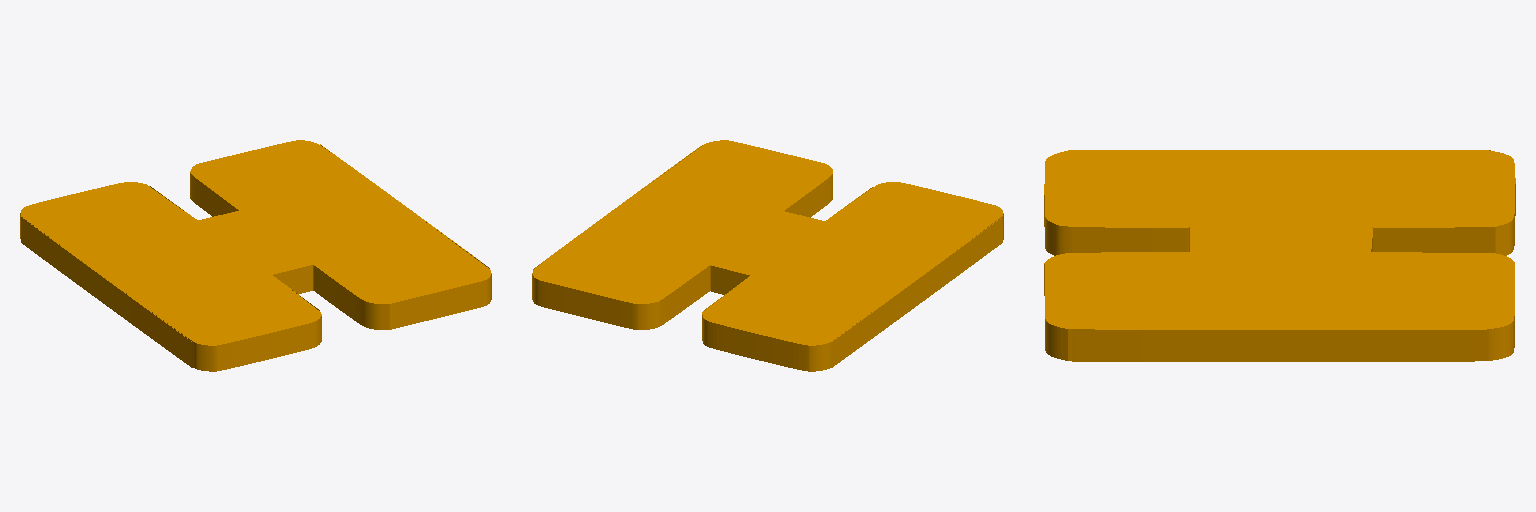
The robot description file, URDF, robot "i5.urdf":
<?xml version="1.0" encoding="utf-8"?>
<robot name="i5.urdf">
  <link name="baseLink">
    <contact>
      <lateral_friction value="0.5"/>
      <rolling_friction value="0.001"/>
      <spinning_friction value="0.001"/>
    </contact>
    <inertial>
      <origin rpy="0 0 0" xyz="0 0 0"/>
      <mass value="0.07"/>
      <inertia ixx="1" ixy="0" ixz="0" iyy="1" iyz="0" izz="1"/>
    </inertial>
    <visual>
      <origin rpy="0 0 0" xyz="0 0 0"/>
      <geometry>
        <mesh filename="i5.obj" scale="0.2 0.2 0.1"/> <!-- Scale x and y by 3.5, z by 1.0 -->
      </geometry>
    </visual>
    <collision>
      <origin rpy="0 0 0" xyz="0 0 0"/>
      <geometry>
        <mesh filename="i5.obj" scale="0.2 0.2 0.1"/> <!-- Scale x and y by 3.5, z by 1.0 -->
      </geometry>
    </collision>
  </link>
</robot>

--- What the picture shows (computed from the rendered views, not written in the file) ---
The picture shows the robot from 3 angles, left to right: view 1: azimuth 30°, elevation 25°; view 2: azimuth 150°, elevation 25°; view 3: azimuth 270°, elevation 25°; orthographic projection.
Robot: i5.urdf — 1 links, 0 joints (none); root link baseLink; default pose: all joints at 0.
Links seen in each view (by area): view 1: baseLink; view 2: baseLink; view 3: baseLink.
Link boxes in pixels (x1,y1,x2,y2): baseLink: (20, 140, 491, 371); baseLink: (532, 140, 1003, 371); baseLink: (1044, 150, 1515, 361).
Size in the robot's own frame: 0.4753 by 0.5265 by 0.0394 metres.
Meshes: 1 distinct files referenced, 1 mesh visuals loaded (1 OBJ).